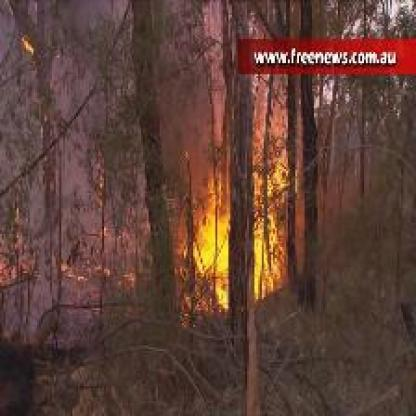fire: (169, 103, 292, 312), (2, 190, 147, 293), (12, 30, 42, 57)
